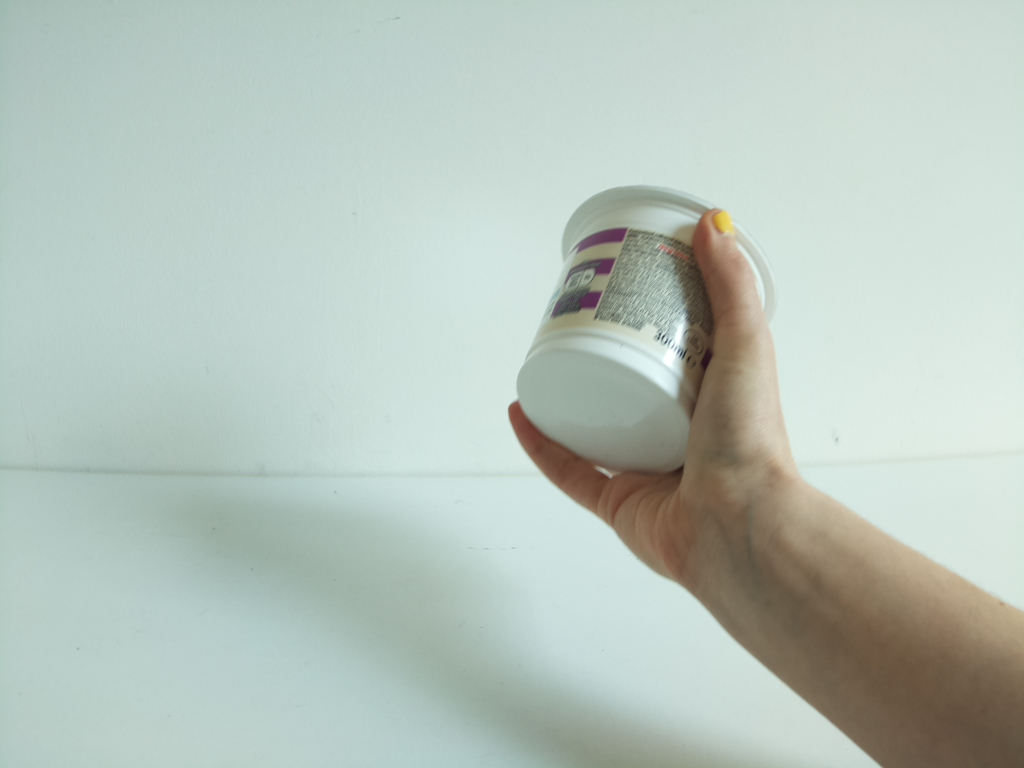cream: (517, 187, 780, 480)
